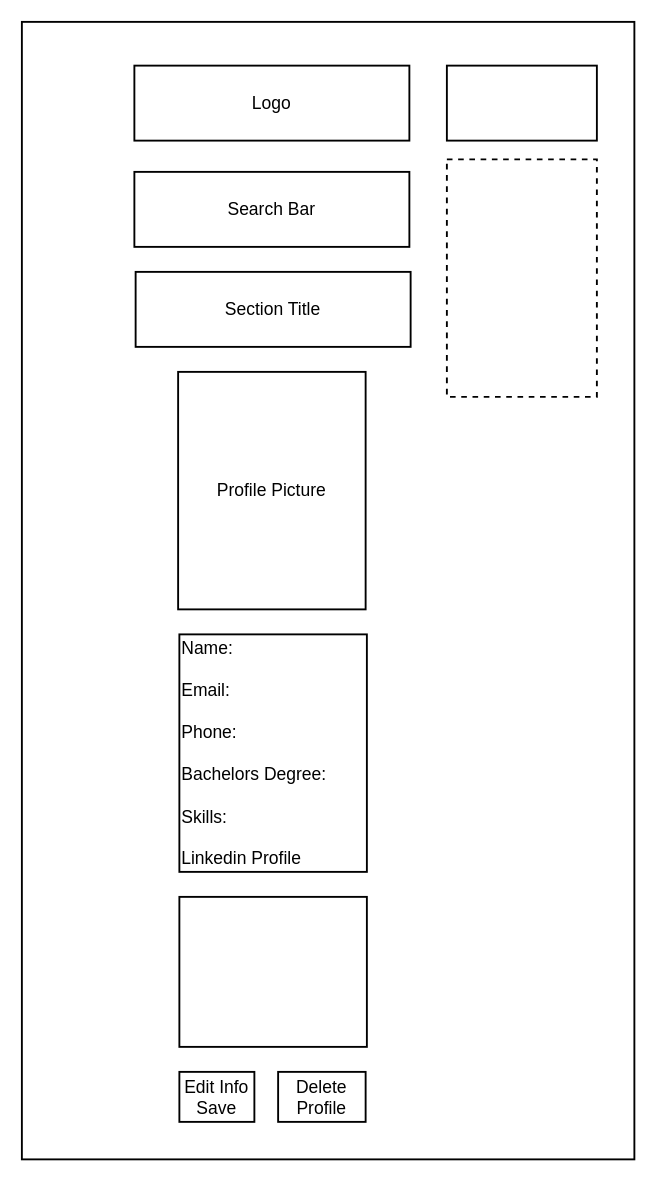
Image size: 658x1183. Some labels were removed from this diagram. The centre of each missing label's shape, as x and y in pixels:
"About Me" goes at (x=272, y=971).
"Dashboard Profile Jobs Resume Notifications News Feed" goes at (x=521, y=277).
"Drop Down Menu" goes at (x=521, y=102).
